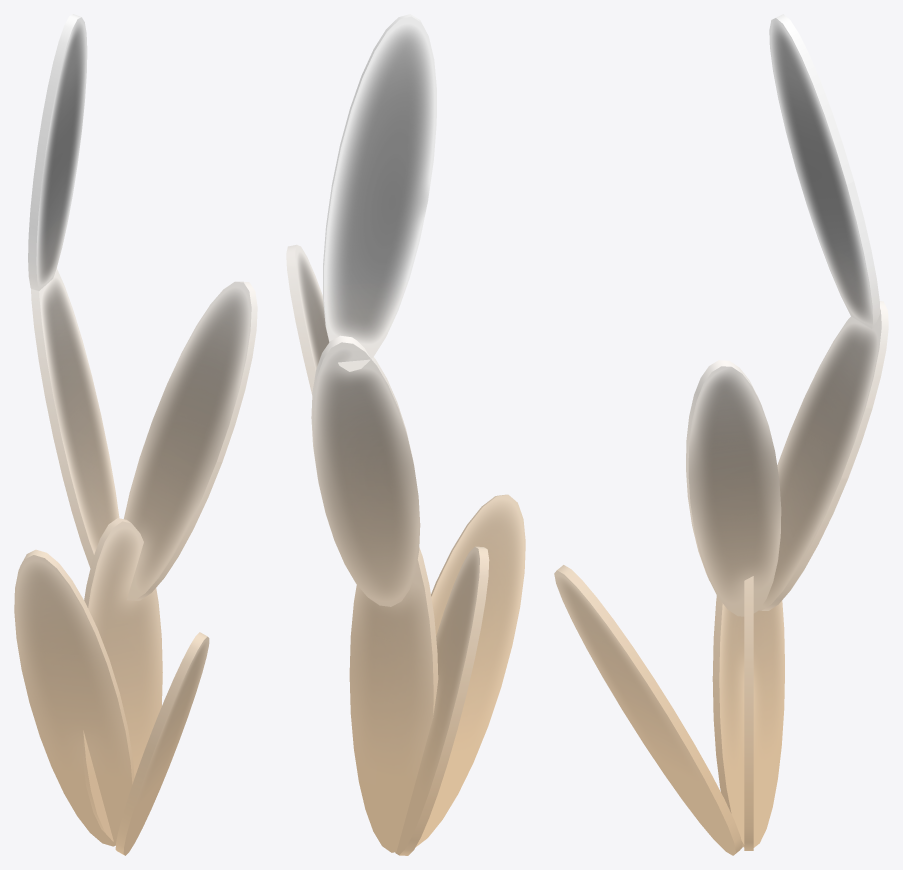
Rendered from desertfigures_sep5_opt_color2.glb.
3 renders of one model, left to right at view 1: azimuth 30°, elevation 25°; view 2: azimuth 150°, elevation 25°; view 3: azimuth 270°, elevation 25°, orthographic. The views are drawn at different scales.
Parts seen in each view (by area): view 1: desertfigure_2; view 2: desertfigure_2; view 3: desertfigure_2.
Boxes of the visible parts, <box> form: desertfigure_2: <box>14,14,257,855</box>; desertfigure_2: <box>286,14,525,855</box>; desertfigure_2: <box>554,14,888,855</box>.
Bounding box in the file's own units: 5.82 × 21.57 × 7.93.
Materials: 1 (1 with a texture image).
